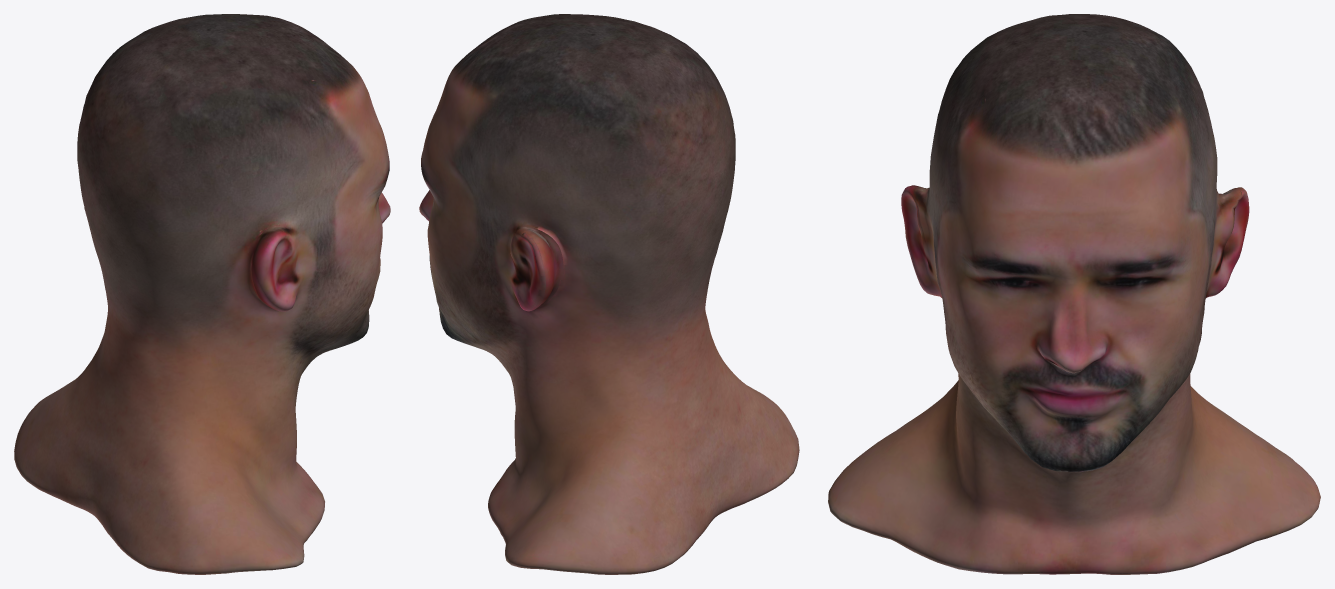
The model's file is a4838adf99db_Brad_pit_min.fbx.
3 renders of one model, left to right at view 1: azimuth 30°, elevation 25°; view 2: azimuth 150°, elevation 25°; view 3: azimuth 270°, elevation 25°, orthographic. The views are drawn at different scales.
Parts seen in each view (by area): view 1: mesh; view 2: mesh; view 3: mesh.
Boxes of the visible parts, <box> form: mesh: <box>14,14,390,574</box>; mesh: <box>419,14,799,574</box>; mesh: <box>828,14,1320,574</box>.
Bounding box in the file's own units: 69.84 × 99.98 × 87.28.
